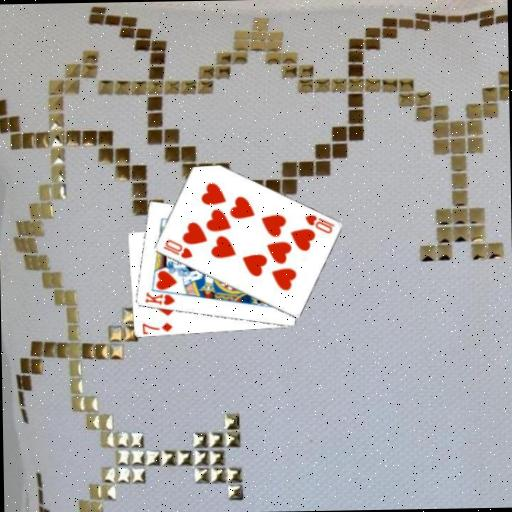10H: (160, 236, 194, 261), (302, 211, 336, 236)
7D: (138, 320, 174, 336)
KH: (142, 288, 176, 307)
